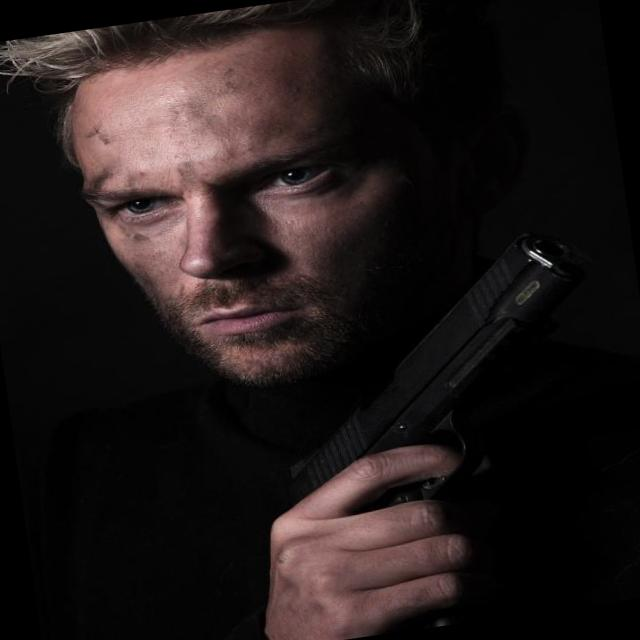Gun: (291, 234, 585, 508)
